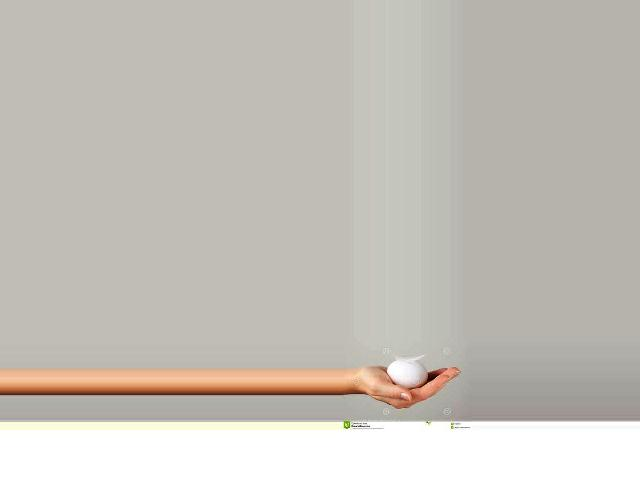egg: (387, 360, 429, 388)
